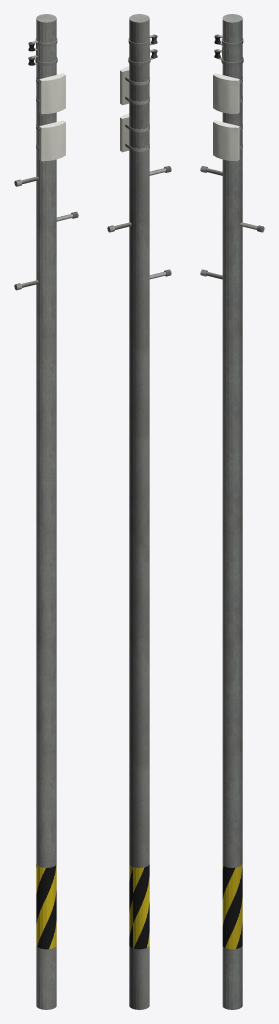
3 views of the same model, side by side, from view 1: azimuth 30°, elevation 25°; view 2: azimuth 210°, elevation 25°; view 3: azimuth 330°, elevation 25° (orthographic).
Parts seen in each view (by area): view 1: MainBuilding; view 2: MainBuilding; view 3: MainBuilding.
Boxes of the visible parts, x1,y1,x2,y2 form: MainBuilding: (14, 14, 78, 1009); MainBuilding: (107, 14, 171, 1009); MainBuilding: (200, 14, 264, 1009).
Bounding box in the file's own units: 0.6472 × 10 × 0.2682.
Materials: 1 (1 with a texture image).
